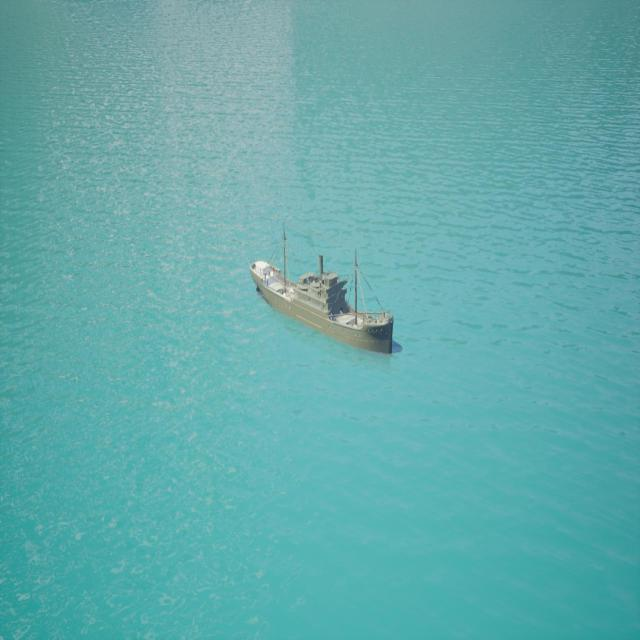fishing ship: (249, 255, 397, 360)
